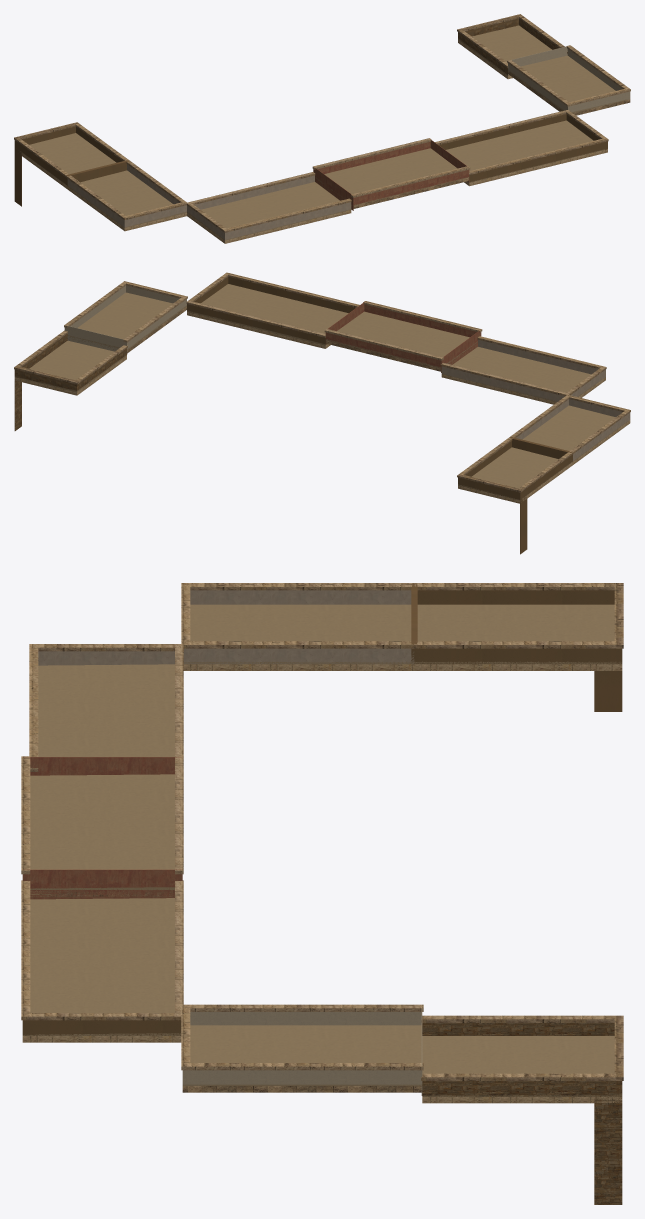
File: roof-bundle-spawn-b-courtyard.glb
3 views of the same model, one above another, from view 1: azimuth 30°, elevation 25°; view 2: azimuth 150°, elevation 25°; view 3: azimuth 270°, elevation 25° (orthographic). The views are drawn at different scales.
Visible parts, largest first — view 1: ph_bz04_aged_plaster_ochre.001-receive, ph_bz04_stone_trim_sandstone.002-cast, ph_bz04_beige_wall_002.001-cast, ph_bz04_painted_plaster_warm.002-cast, ph_bz04_red_plaster_weathered.001-cast, ph_bz04_plastered_wall.001-cast, ph_bz04_sandstone_blocks_06.002-cast; view 2: ph_bz04_aged_plaster_ochre.001-receive, ph_bz04_stone_trim_sandstone.002-cast, ph_bz04_beige_wall_002.001-cast, ph_bz04_painted_plaster_warm.002-cast, ph_bz04_red_plaster_weathered.001-cast, ph_bz04_plastered_wall.001-cast, ph_bz04_sandstone_blocks_06.002-cast; view 3: ph_bz04_aged_plaster_ochre.001-receive, ph_bz04_stone_trim_sandstone.002-cast, ph_bz04_beige_wall_002.001-cast, ph_bz04_painted_plaster_warm.002-cast, ph_bz04_sandstone_blocks_06.002-cast, ph_bz04_plastered_wall.001-cast, ph_bz04_red_plaster_weathered.001-cast.
Boxes of the visible parts, x1=… form: ph_bz04_aged_plaster_ochre.001-receive: x1=20, y1=25, x2=627, y2=240; ph_bz04_stone_trim_sandstone.002-cast: x1=14, y1=14, x2=630, y2=243; ph_bz04_beige_wall_002.001-cast: x1=14, y1=114, x2=607, y2=206; ph_bz04_painted_plaster_warm.002-cast: x1=67, y1=164, x2=351, y2=240; ph_bz04_red_plaster_weathered.001-cast: x1=313, y1=139, x2=469, y2=210; ph_bz04_plastered_wall.001-cast: x1=508, y1=45, x2=630, y2=112; ph_bz04_sandstone_blocks_06.002-cast: x1=458, y1=14, x2=558, y2=74; ph_bz04_aged_plaster_ochre.001-receive: x1=15, y1=284, x2=630, y2=500; ph_bz04_stone_trim_sandstone.002-cast: x1=14, y1=272, x2=630, y2=503; ph_bz04_beige_wall_002.001-cast: x1=187, y1=277, x2=572, y2=554; ph_bz04_painted_plaster_warm.002-cast: x1=441, y1=339, x2=630, y2=461; ph_bz04_red_plaster_weathered.001-cast: x1=325, y1=301, x2=481, y2=372; ph_bz04_plastered_wall.001-cast: x1=64, y1=285, x2=186, y2=354; ph_bz04_sandstone_blocks_06.002-cast: x1=14, y1=334, x2=126, y2=430; ph_bz04_aged_plaster_ochre.001-receive: x1=22, y1=604, x2=622, y2=1096; ph_bz04_stone_trim_sandstone.002-cast: x1=21, y1=583, x2=623, y2=1103; ph_bz04_beige_wall_002.001-cast: x1=22, y1=583, x2=622, y2=1035; ph_bz04_painted_plaster_warm.002-cast: x1=38, y1=590, x2=414, y2=665; ph_bz04_sandstone_blocks_06.002-cast: x1=422, y1=1023, x2=622, y2=1204; ph_bz04_plastered_wall.001-cast: x1=182, y1=1006, x2=422, y2=1095; ph_bz04_red_plaster_weathered.001-cast: x1=22, y1=757, x2=182, y2=899.
Bounding box in the file's own units: 29.26 × 3.83 × 15.06.
8 materials, 8 textured.
